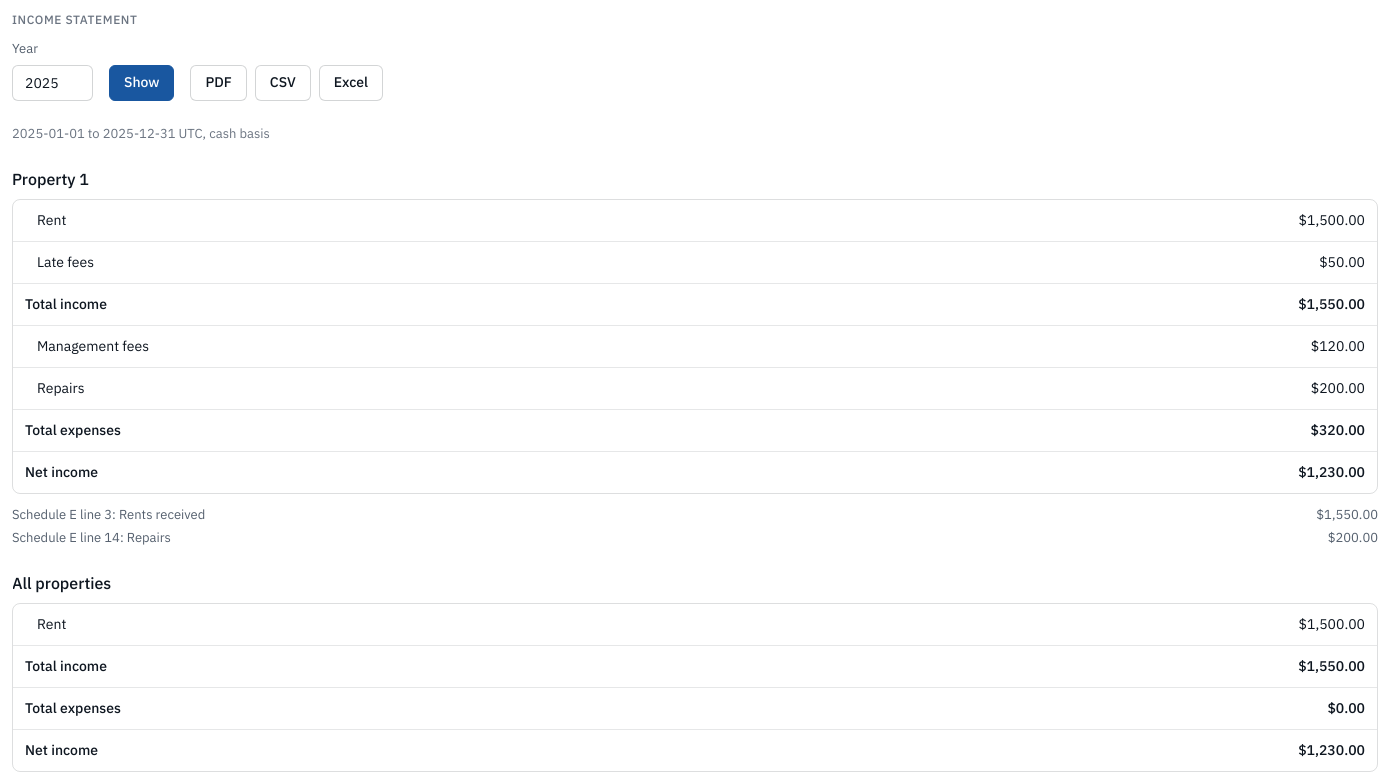
Test case: OwnerIncomeStatement › shows another year, and says why one can't be read
The image size is (1390, 780).
expect the table "Property 1" is shown: met, box [12,167,1378,494]
Replace the text in the number field labelled "Year" with "2024" at (52, 83), box [12,65,93,101]
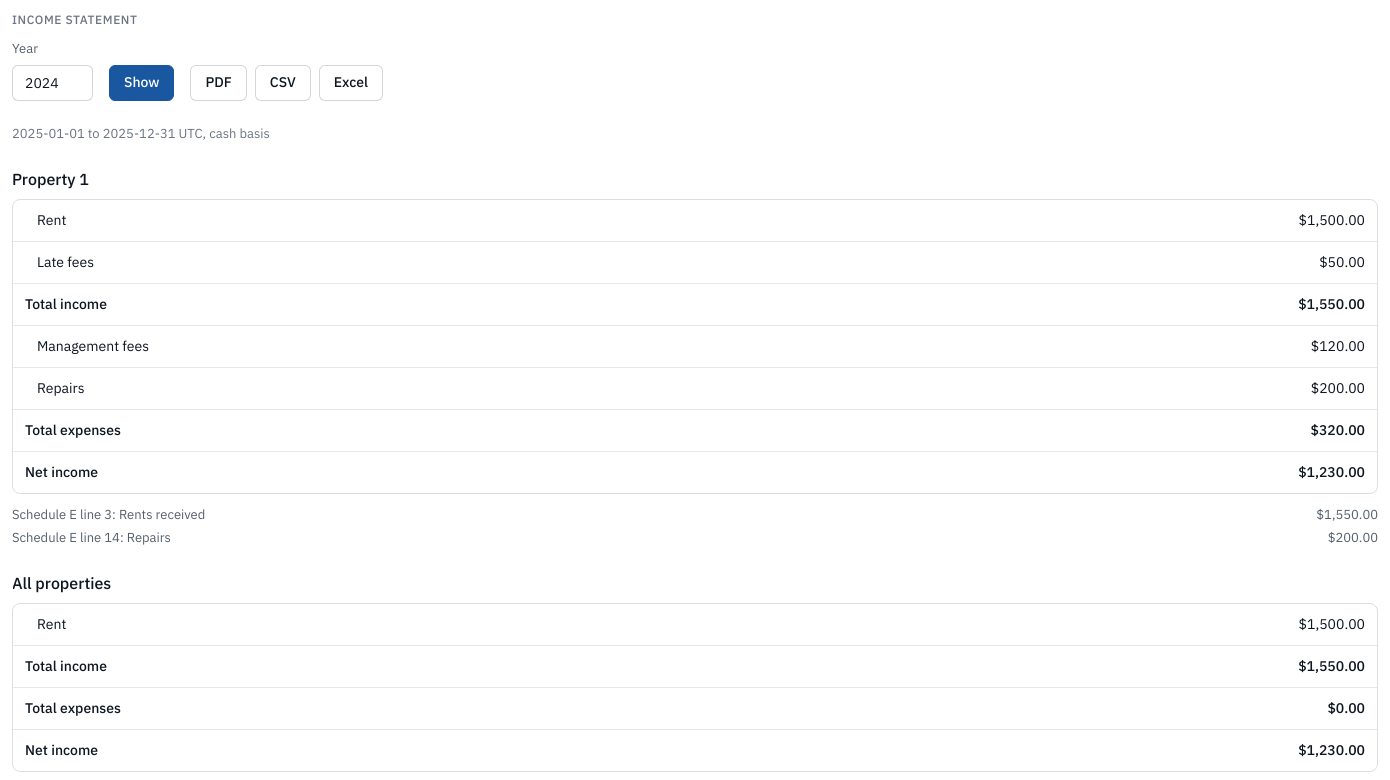
Click the button "Show".
click(142, 83)  # box [109,65,174,101]
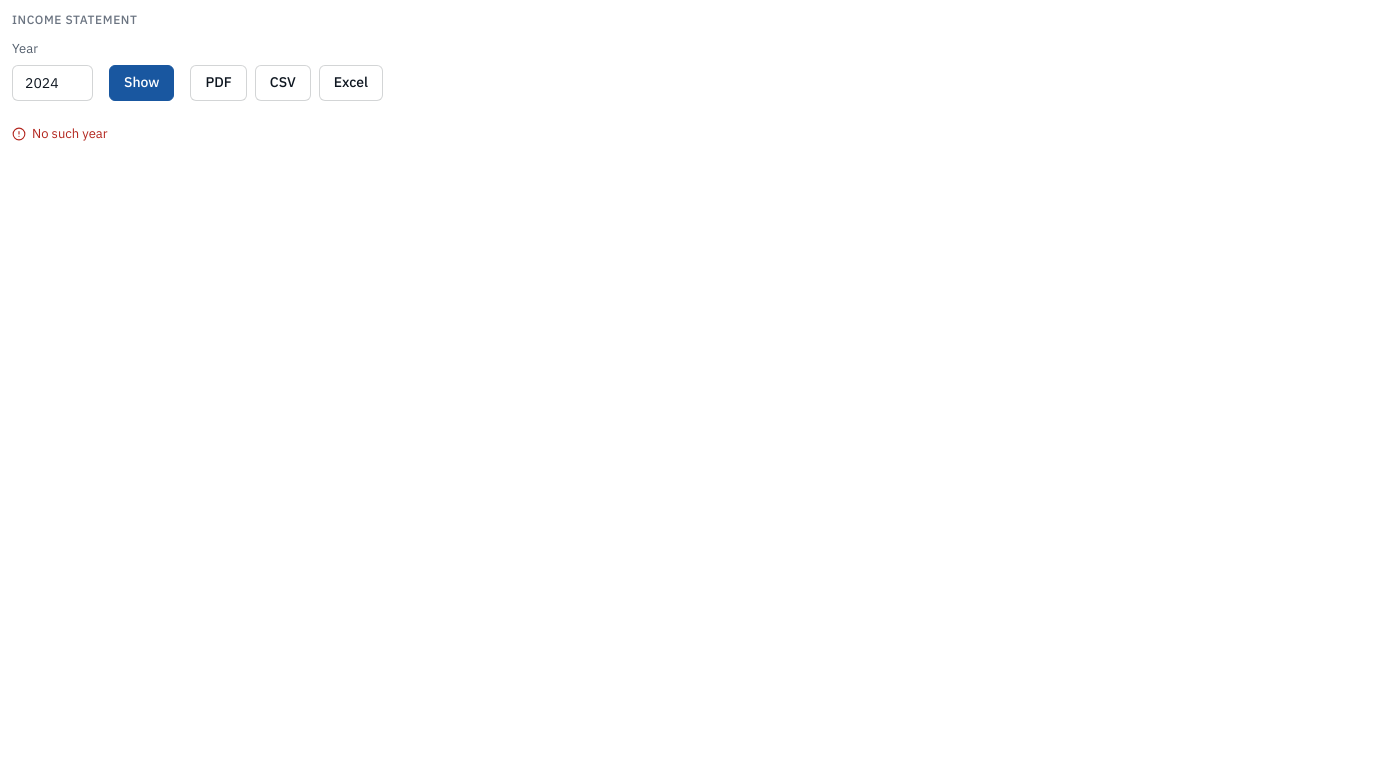
expect the message reads "no such year": met, box [32,125,108,142]
expect the table is gone: met
